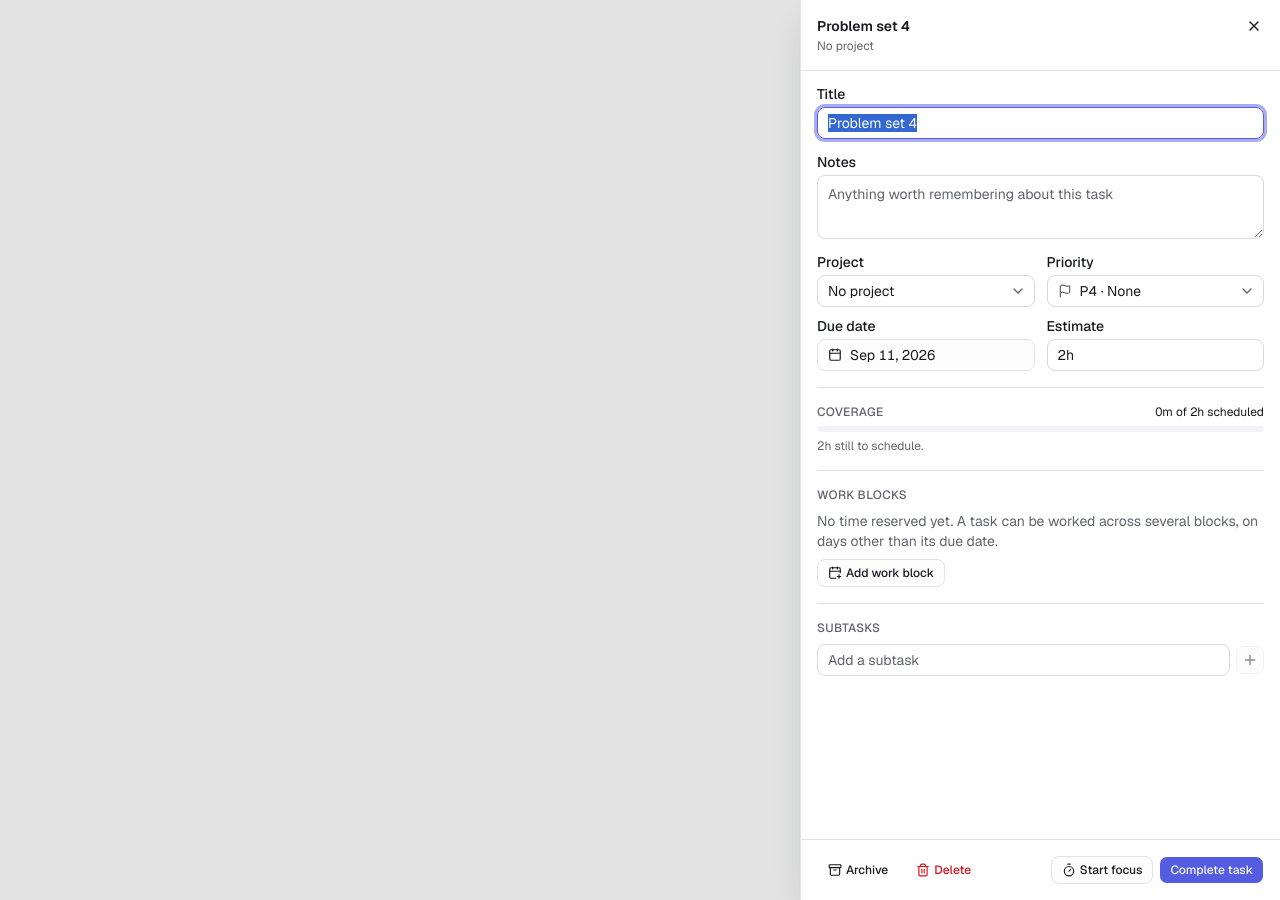
Test: the title field › abandons the edit on Escape rather than committing it
The width and height of the screenshot is (1280, 900).
Replace the text in the field labelled "Title" with "DELETE ME". click: (1040, 123)
box: [817,107,1264,139]
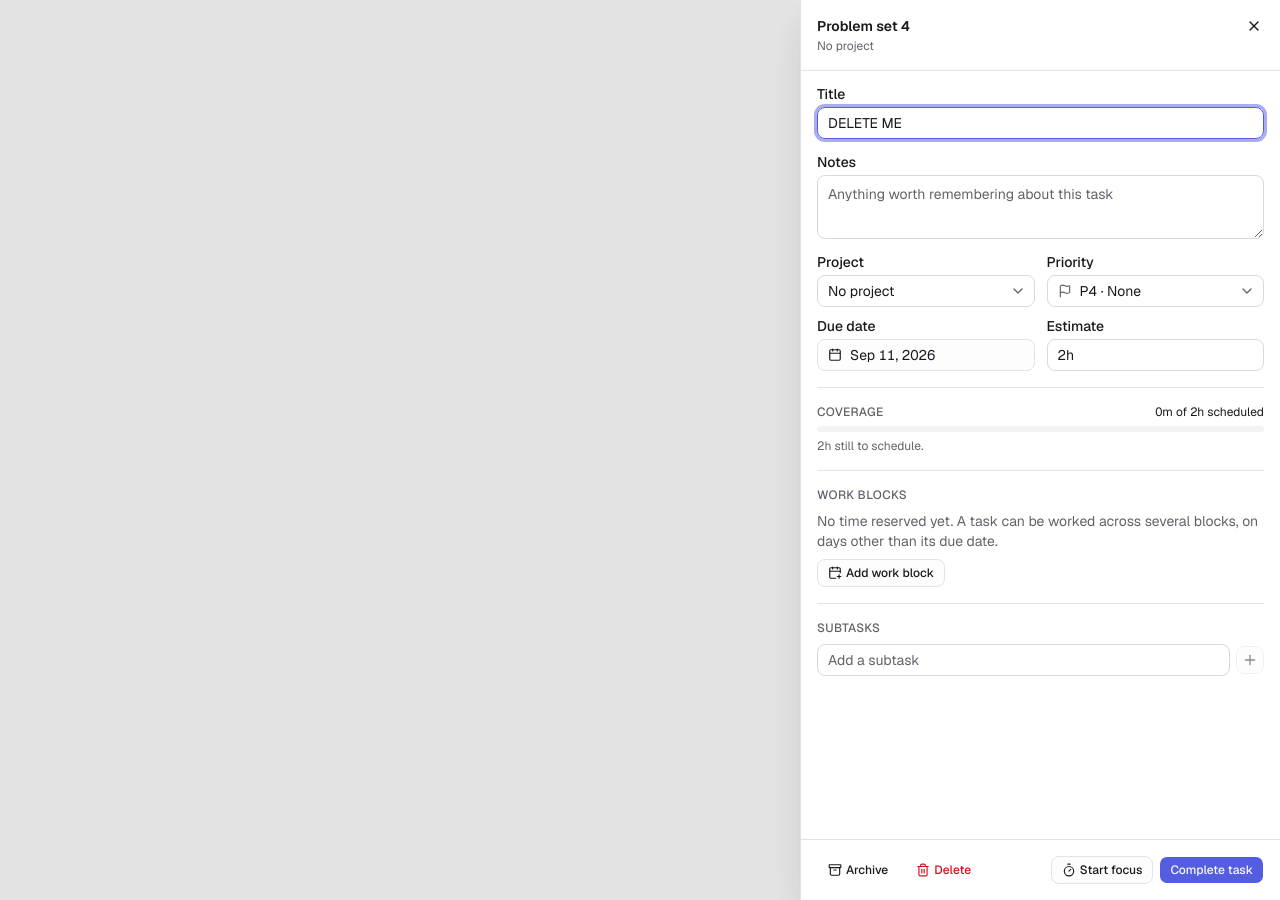
Press Escape in the field labelled "Title", box [817,107,1264,139]
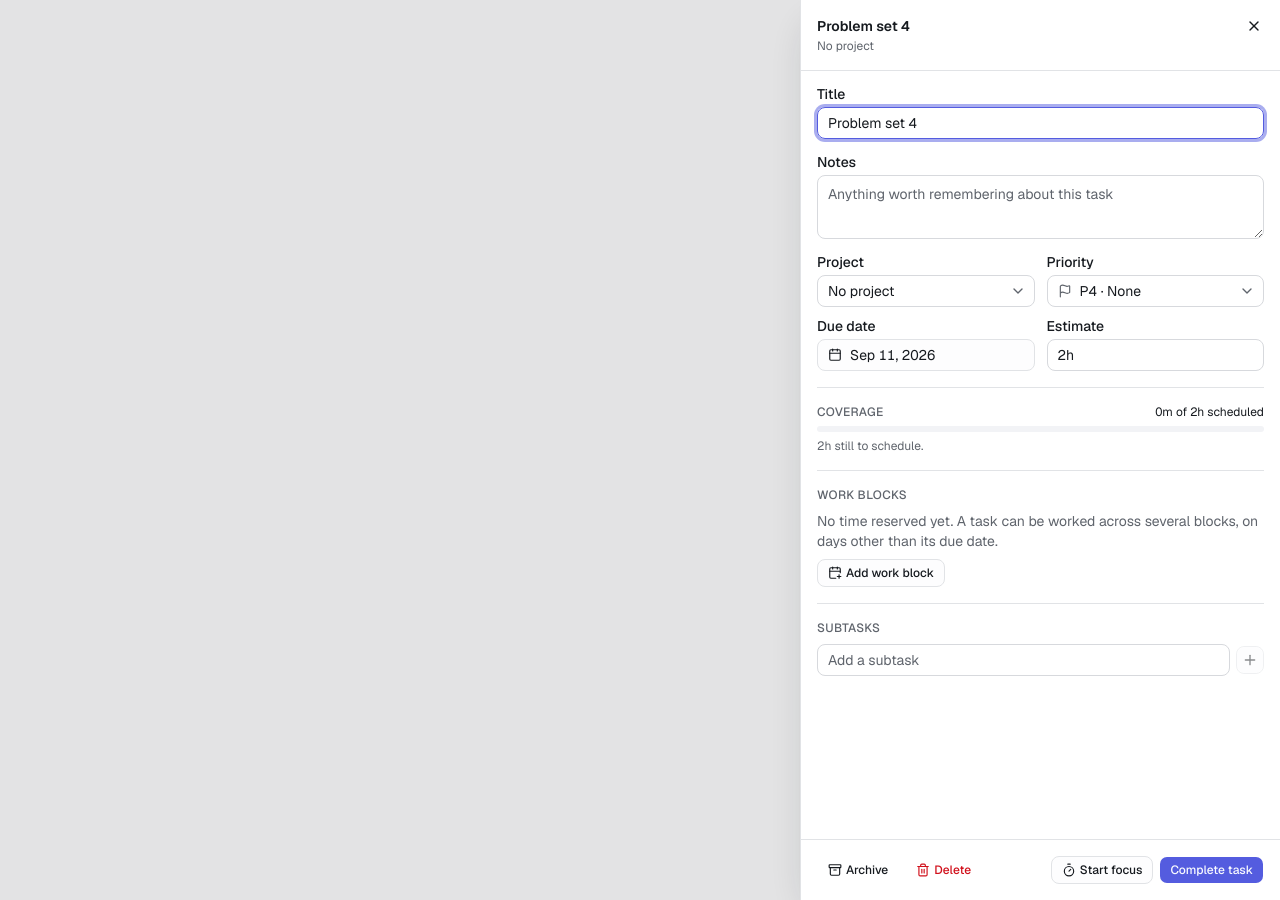
Expected: the field labelled "Title" holds "Problem set 4", [817,107,1264,139]
